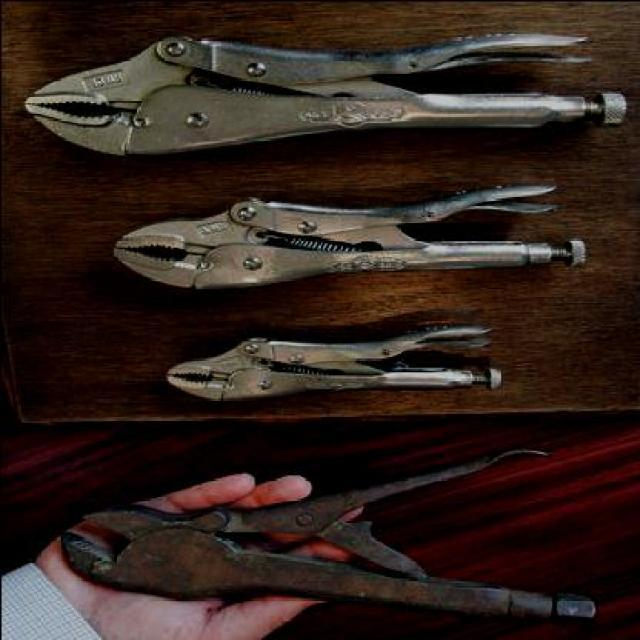pliers: (23, 32, 626, 160)
